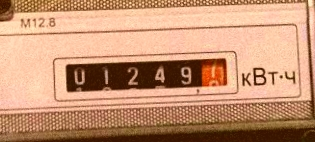0: (71, 64, 86, 85)
1: (98, 63, 111, 85)
2: (123, 63, 140, 86)
4: (152, 62, 166, 83)
7: (206, 57, 220, 78)
9: (178, 63, 192, 85)
screen: (49, 45, 241, 103)
